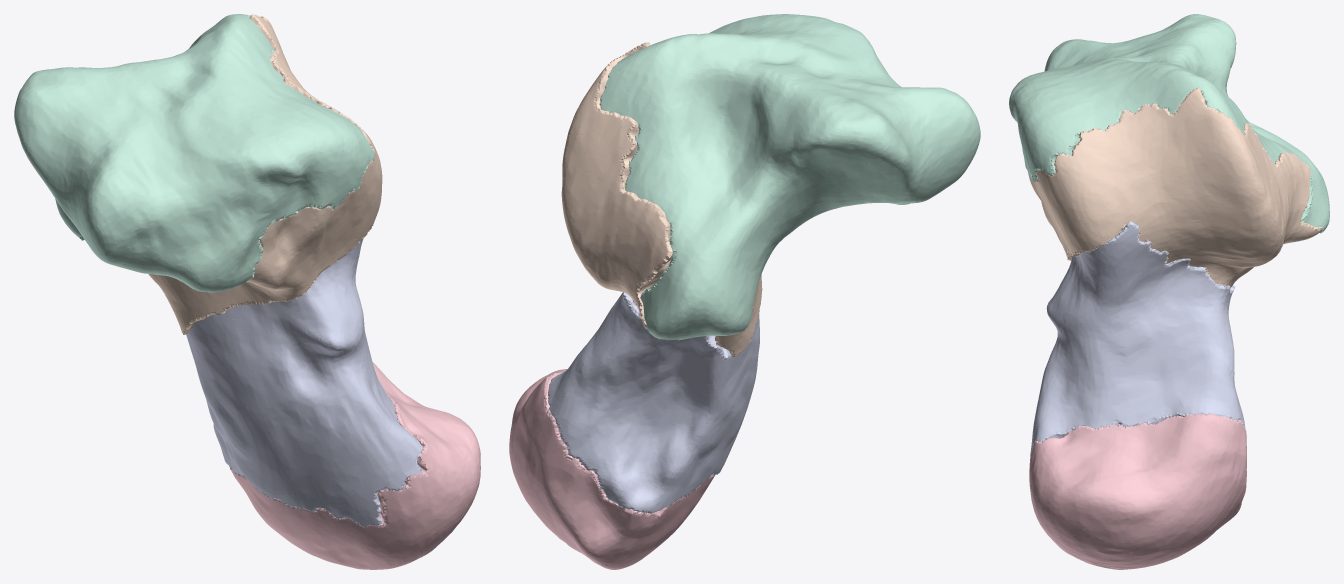
File: view_assembly_9_colored.glb
The picture shows the model from 3 angles, left to right: view 1: azimuth 30°, elevation 25°; view 2: azimuth 150°, elevation 25°; view 3: azimuth 270°, elevation 25°; orthographic projection. The views are drawn at different scales.
Visible parts, largest first — view 1: world; view 2: world; view 3: world.
Part boxes in pixels (box(x1,y1,x2,y2)): world: box(14, 14, 480, 569); world: box(509, 14, 980, 569); world: box(1009, 14, 1329, 569).
Bounding box in the file's own units: 0.7629 × 0.9653 × 0.6164.
